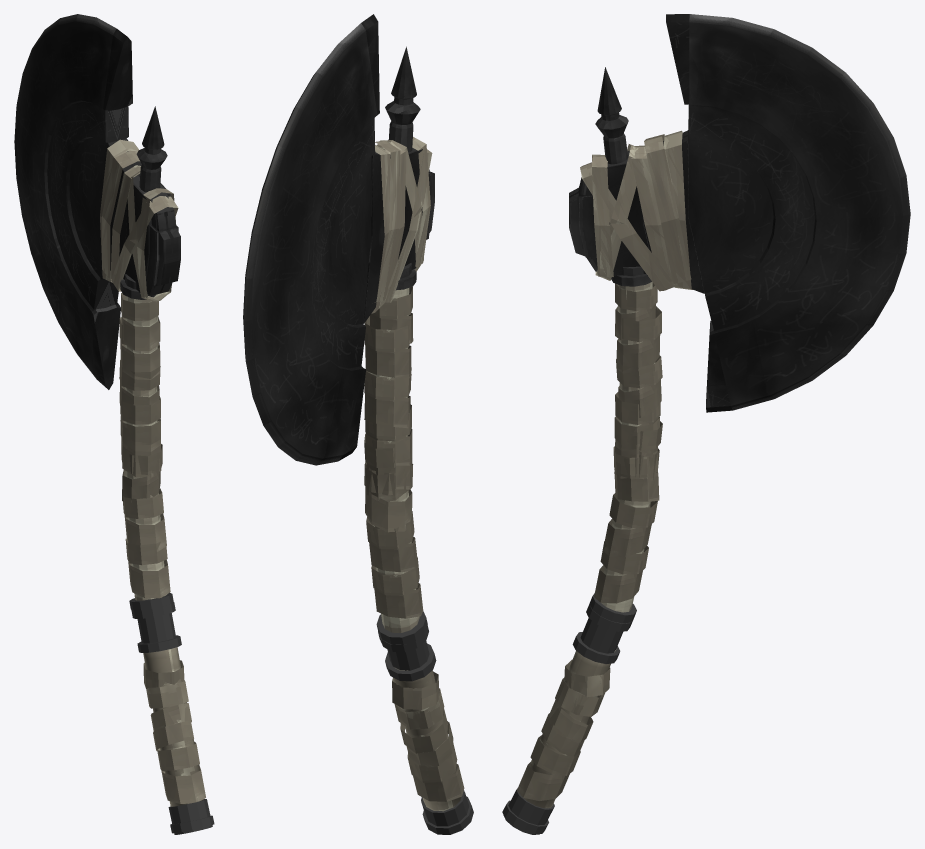
File: hunter_axe.obj
The picture shows the model from 3 angles, left to right: view 1: azimuth 30°, elevation 25°; view 2: azimuth 150°, elevation 25°; view 3: azimuth 270°, elevation 25°; orthographic projection. The views are drawn at different scales.
Parts seen in each view (by area): view 1: Circle, part_handle_2_bandages.008, part_handle_2_bandages, part_handle_2_steel_Cube.013, part_handle_2_steel_Cube.002, part_handle_2_steel_Cube.001; view 2: Circle, part_handle_2_bandages.008, part_handle_2_bandages, part_handle_2_steel_Cube.013, part_handle_2_steel_Cube.002, part_handle_2_steel_Cube.001; view 3: Circle, part_handle_2_bandages.008, part_handle_2_bandages, part_handle_2_steel_Cube.013, part_handle_2_steel_Cube.002.
Part boxes in pixels (x1,y1,x2,y2): Circle: (14, 14, 180, 389); part_handle_2_bandages.008: (100, 139, 178, 600); part_handle_2_bandages: (143, 647, 205, 806); part_handle_2_steel_Cube.013: (131, 602, 214, 834); part_handle_2_steel_Cube.002: (120, 106, 167, 299); part_handle_2_steel_Cube.001: (129, 592, 173, 610); Circle: (243, 14, 434, 465); part_handle_2_bandages.008: (364, 137, 432, 632); part_handle_2_bandages: (392, 667, 464, 811); part_handle_2_steel_Cube.013: (378, 625, 473, 834); part_handle_2_steel_Cube.002: (385, 46, 420, 290); part_handle_2_steel_Cube.001: (376, 611, 427, 644); Circle: (569, 14, 910, 412); part_handle_2_bandages.008: (580, 130, 692, 612); part_handle_2_bandages: (517, 649, 616, 808); part_handle_2_steel_Cube.013: (502, 604, 633, 834); part_handle_2_steel_Cube.002: (595, 67, 651, 286).
Size of the model in its own units: 0.2338 by 4.29 by 1.94.
